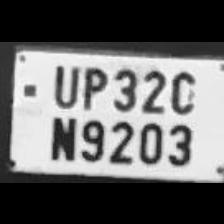0: (134, 118, 162, 164)
2: (138, 64, 167, 112), (104, 116, 134, 162)
3: (108, 60, 139, 110), (164, 116, 195, 166)
9: (76, 113, 106, 162)
C: (165, 64, 197, 114)
N: (44, 110, 76, 160)
P: (78, 61, 106, 108)
U: (47, 57, 79, 106)
